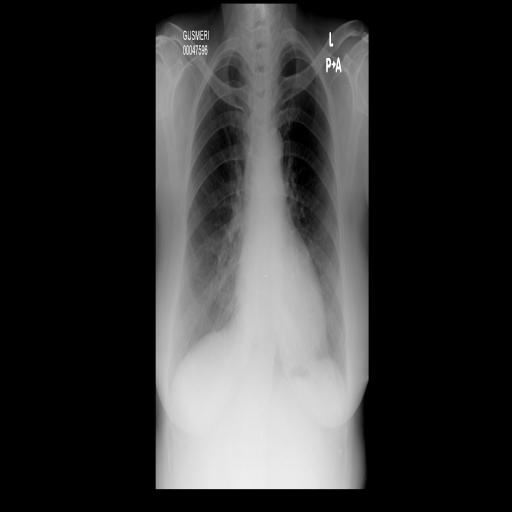kardiomegali: (164, 14, 352, 413)
